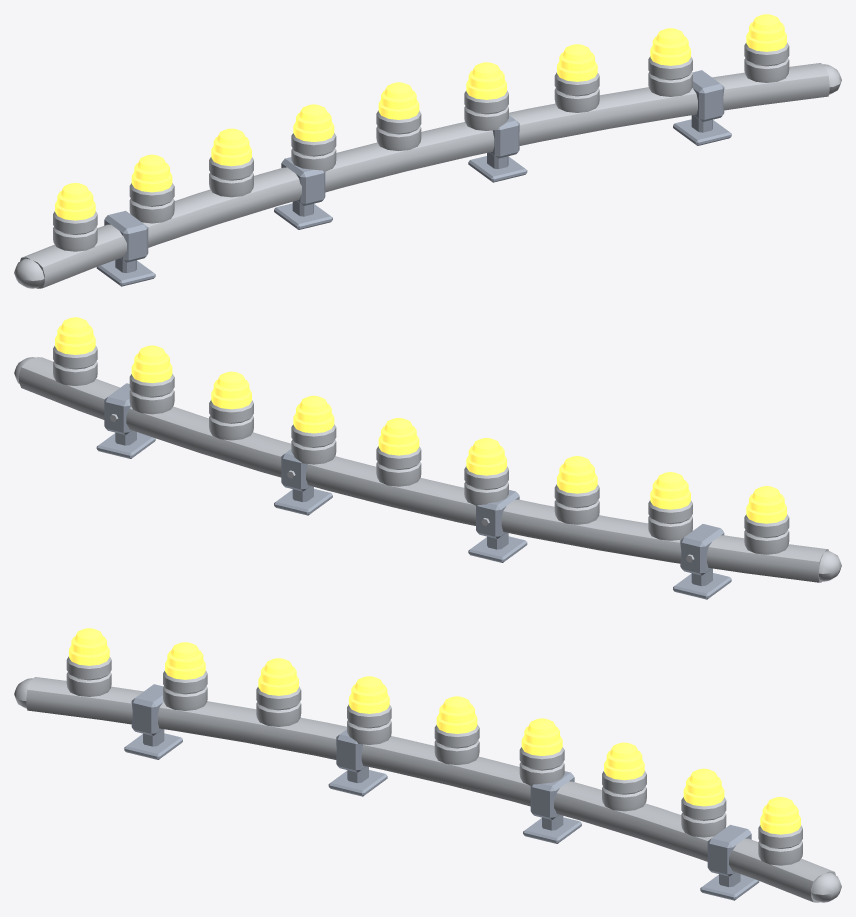
The model's file is marker_crown_dx.glb.
The picture shows the model from 3 angles, top to bottom: view 1: azimuth 30°, elevation 25°; view 2: azimuth 150°, elevation 25°; view 3: azimuth 330°, elevation 25°; orthographic projection.
Parts seen in each view (by area): view 1: chrome, lamp_amber, steel; view 2: chrome, lamp_amber, steel; view 3: chrome, lamp_amber, steel.
Boxes of the visible parts, x1,y1,x2,y2 form: chrome: (14, 42, 841, 288); lamp_amber: (55, 14, 786, 220); steel: (96, 70, 731, 286); chrome: (14, 346, 841, 582); lamp_amber: (55, 317, 786, 523); steel: (96, 383, 731, 599); chrome: (14, 656, 841, 902); lamp_amber: (69, 628, 800, 834); steel: (124, 684, 759, 900).
Size of the model in its own units: 2.28 by 0.287 by 0.2402.
